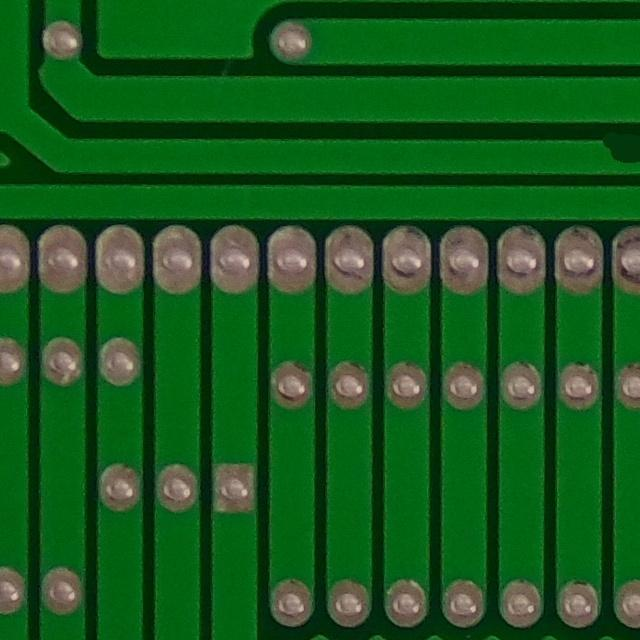mouse_bite: (586, 122, 640, 179)
